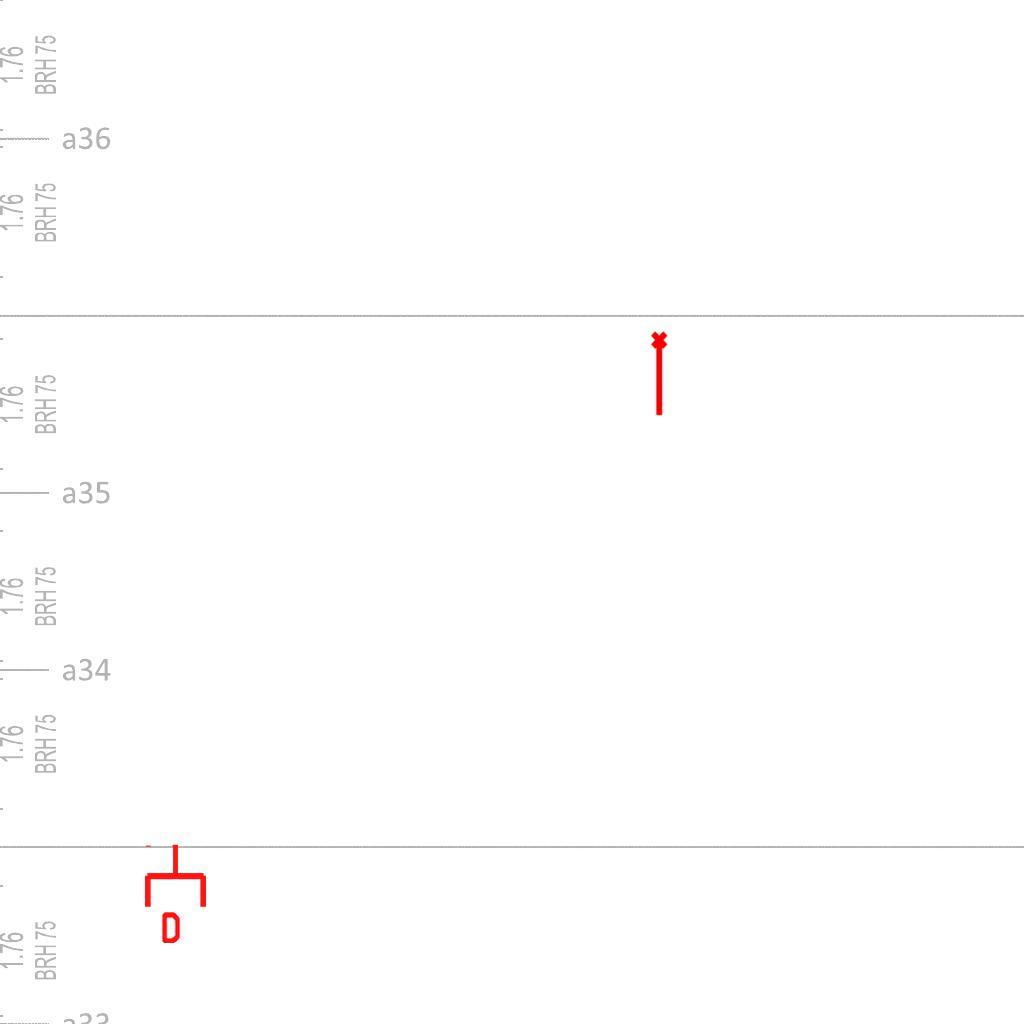ASR_Ansaugoeffnung: (649, 330, 672, 418)
Datenanschluss_einfach: (141, 843, 210, 943)
